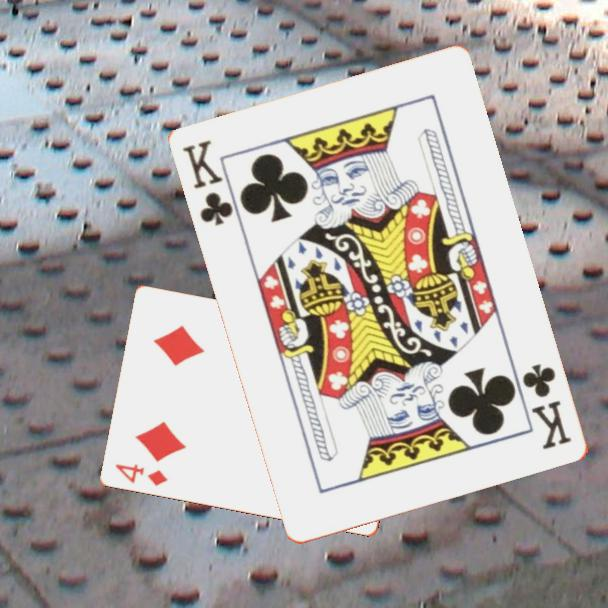c13: (179, 136, 237, 230), (519, 360, 575, 453)
d04: (112, 460, 171, 489)
